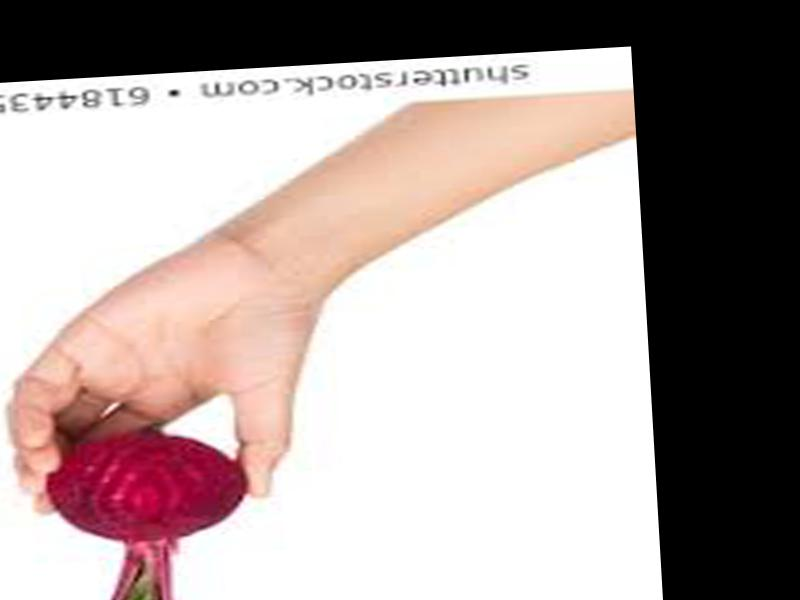Beet: (39, 425, 252, 600)
